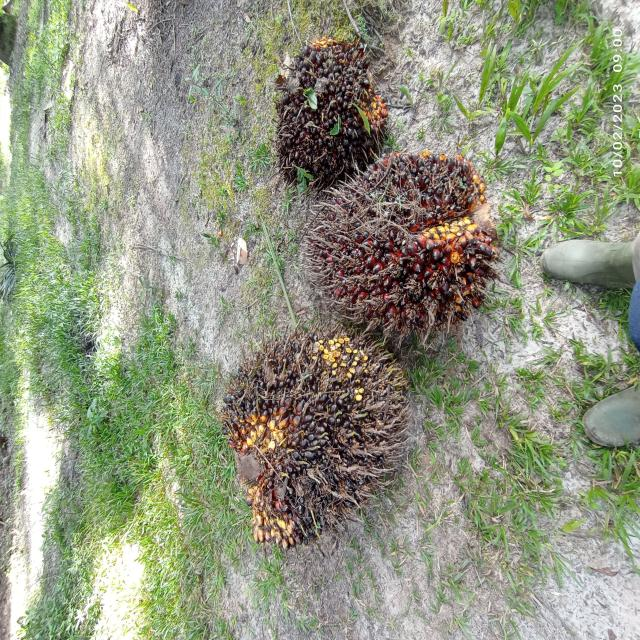fraksi 00: (180, 333, 428, 540), (232, 8, 422, 191)
fraksi 1: (294, 150, 531, 342)
